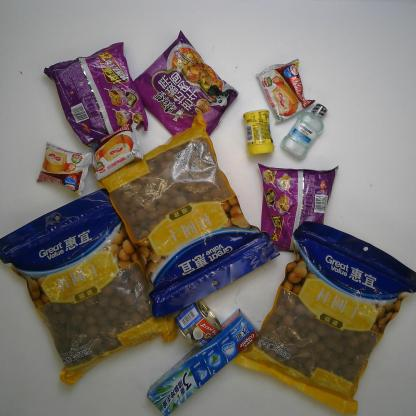Canned Food: (174, 300, 224, 349)
Dessert: (256, 59, 316, 121), (91, 120, 144, 182), (35, 142, 92, 196)
Dried Food: (95, 111, 281, 317), (233, 219, 416, 415), (1, 188, 178, 385)
Gum: (242, 108, 274, 154)
Instant Noodles: (132, 30, 239, 138), (42, 42, 153, 146), (256, 162, 340, 254)
Personal Hygiene: (145, 309, 259, 416), (280, 103, 328, 161)
